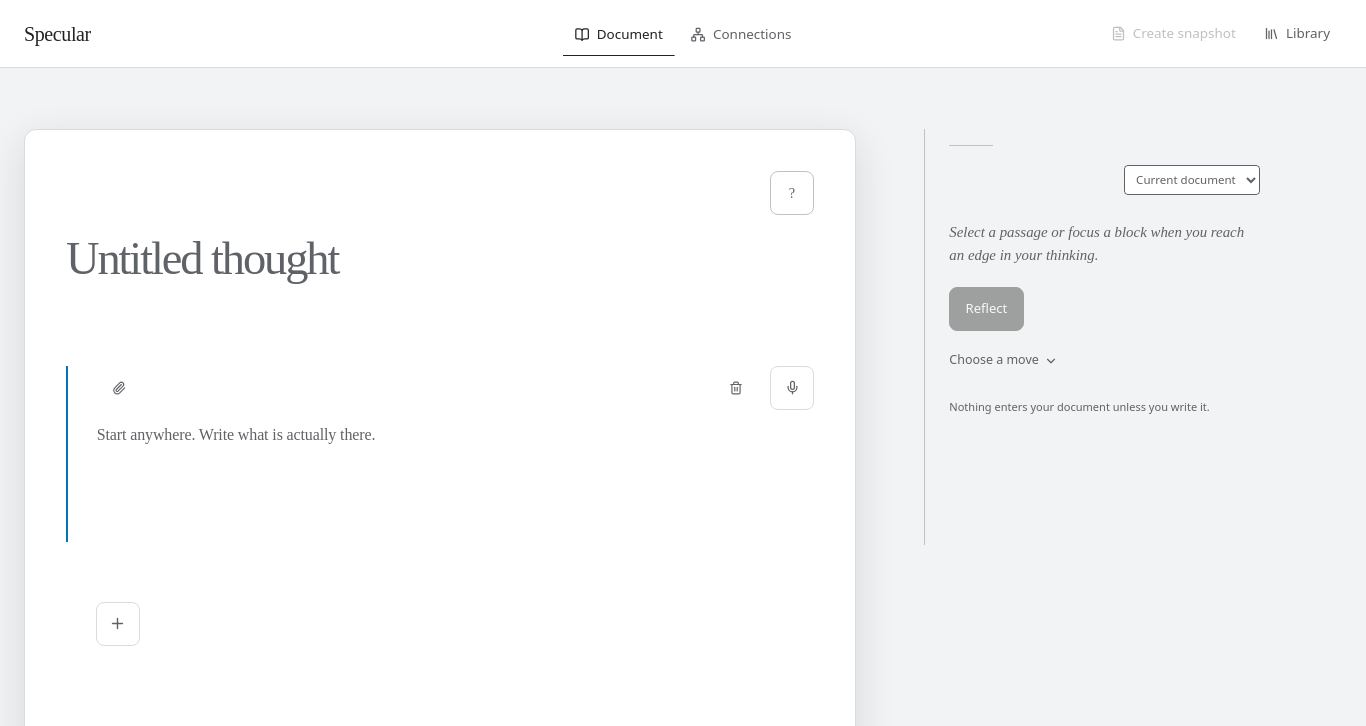
Test: Specular thinking workspace › deletes an accidentally created blank block
The image size is (1366, 726).
Click the button named "New block": (118, 624) [96,602,140,646]
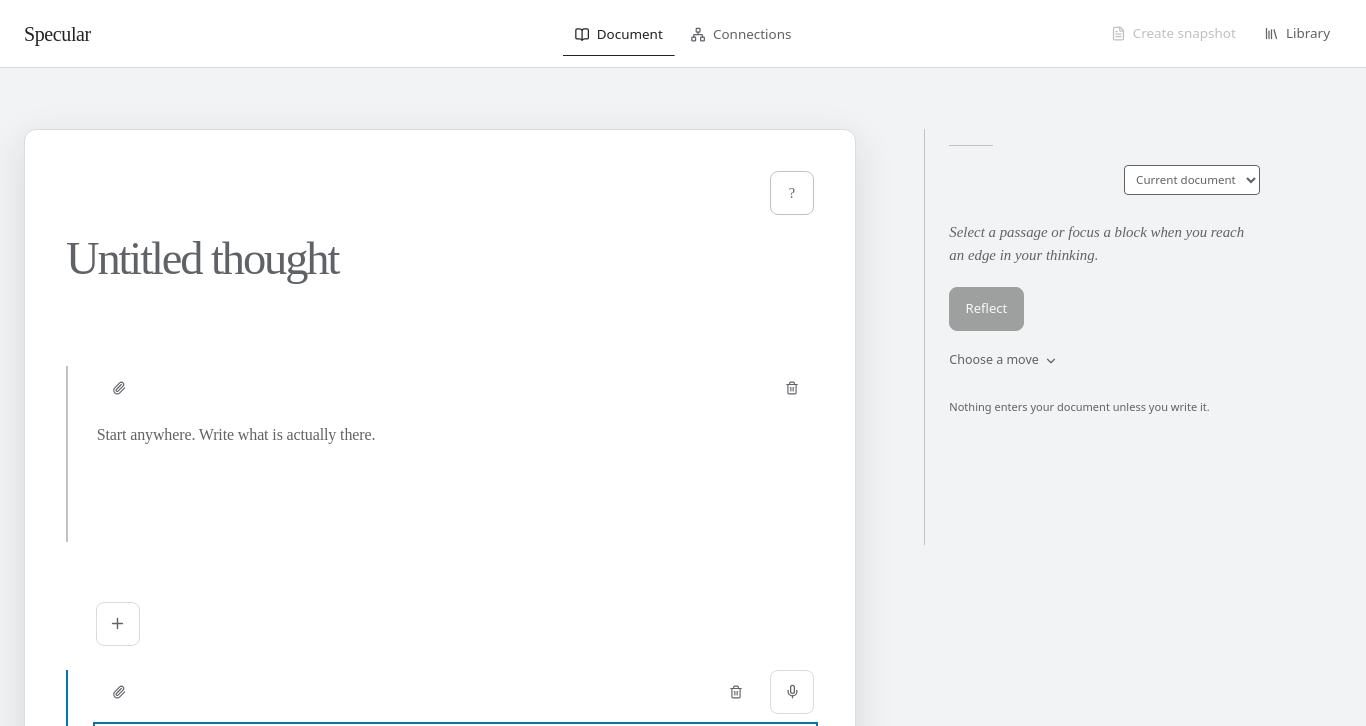
Click the 2nd button named "Delete block": (736, 692) [714,670,758,714]
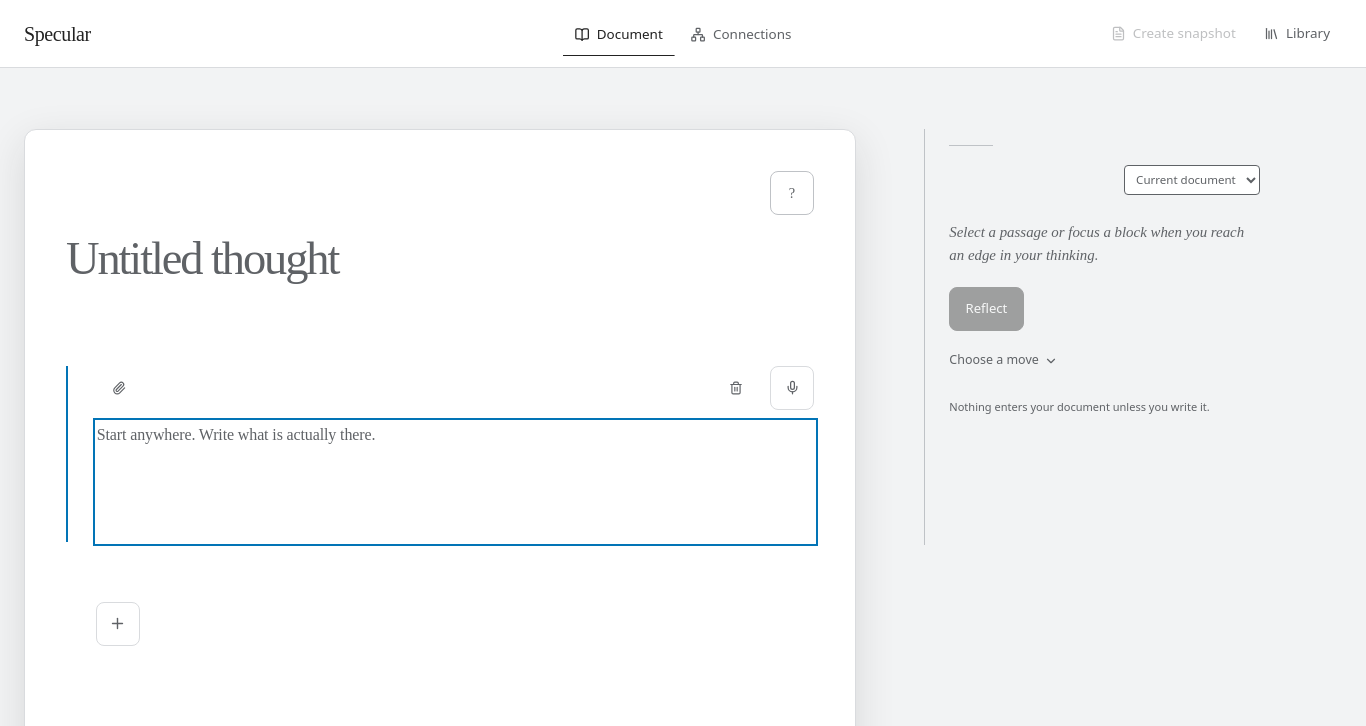
Expected: the number of text boxes named "Thought writing block" is 1, [97,422,814,542]
